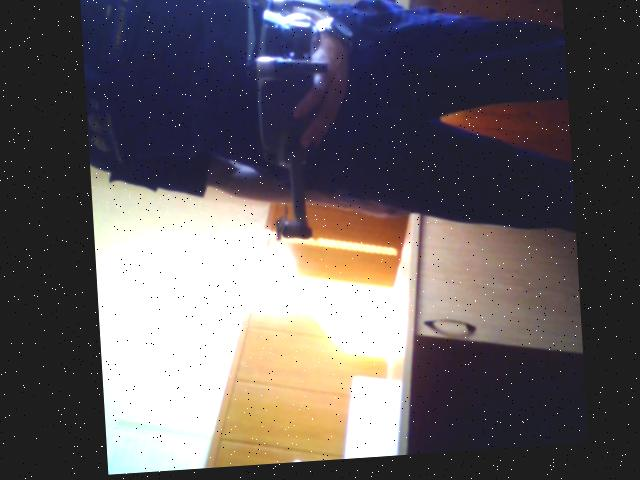drone: (218, 0, 364, 267)
